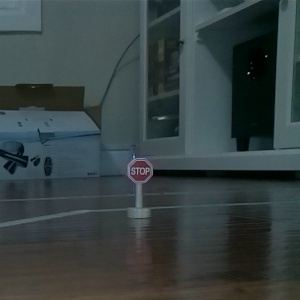stop sign: (123, 156, 154, 220)
